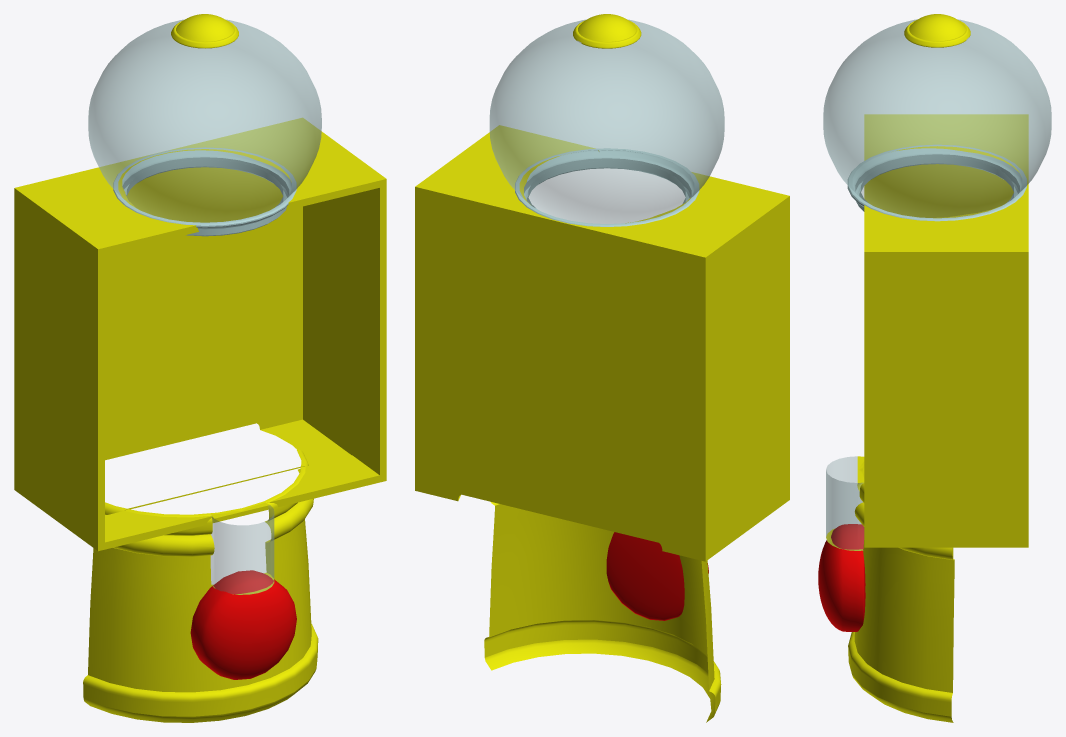
Rendered from candy_machine.fbx.
3 renders of one model, left to right at view 1: azimuth 30°, elevation 25°; view 2: azimuth 150°, elevation 25°; view 3: azimuth 270°, elevation 25°, orthographic. The views are drawn at different scales.
Parts seen in each view (by area): view 1: box2, lantern, machine, button; view 2: box2, lantern, machine, button; view 3: box2, lantern, machine, button.
Boxes of the visible parts, x1=… form: box2: x1=14, y1=118, x2=386, y2=551; lantern: x1=88, y1=14, x2=321, y2=236; machine: x1=83, y1=449, x2=318, y2=722; button: x1=190, y1=570, x2=296, y2=679; box2: x1=415, y1=125, x2=789, y2=561; lantern: x1=489, y1=14, x2=724, y2=226; machine: x1=484, y1=501, x2=721, y2=722; button: x1=606, y1=532, x2=708, y2=620; box2: x1=864, y1=114, x2=1028, y2=547; lantern: x1=823, y1=14, x2=1051, y2=221; machine: x1=826, y1=456, x2=954, y2=722; button: x1=818, y1=524, x2=865, y2=631.
Size of the model in its own units: 3.47 by 7.68 by 2.48.
